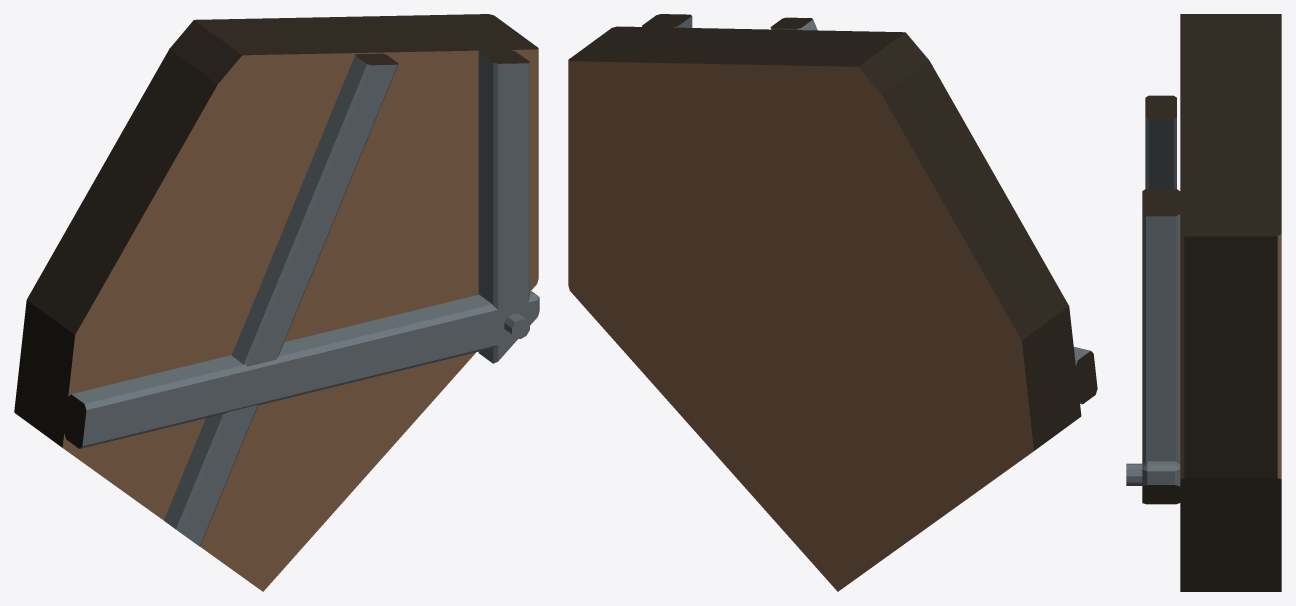
Rendered from SM_DoorShard_02_18.fbx.
The picture shows the model from 3 angles, left to right: view 1: azimuth 30°, elevation 25°; view 2: azimuth 150°, elevation 25°; view 3: azimuth 270°, elevation 25°; orthographic projection. The views are drawn at different scales.
Parts seen in each view (by area): view 1: SM_DoorShard_02_18; view 2: SM_DoorShard_02_18; view 3: SM_DoorShard_02_18.
Part boxes in pixels (box(x1,y1,x2,y2)): SM_DoorShard_02_18: box(14, 14, 539, 591); SM_DoorShard_02_18: box(568, 14, 1097, 591); SM_DoorShard_02_18: box(1126, 14, 1281, 591).
Size of the model in its own units: 91.14 by 24.5 by 98.72.
